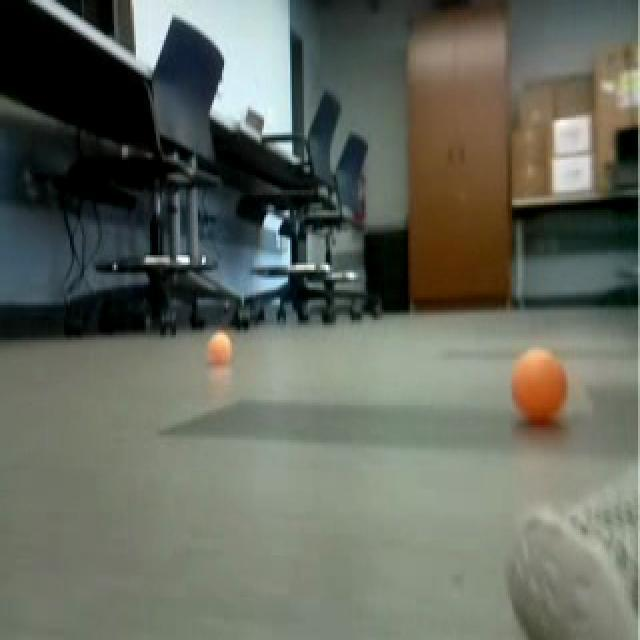ping-pong-ball: (508, 343, 572, 428), (210, 327, 233, 368)
